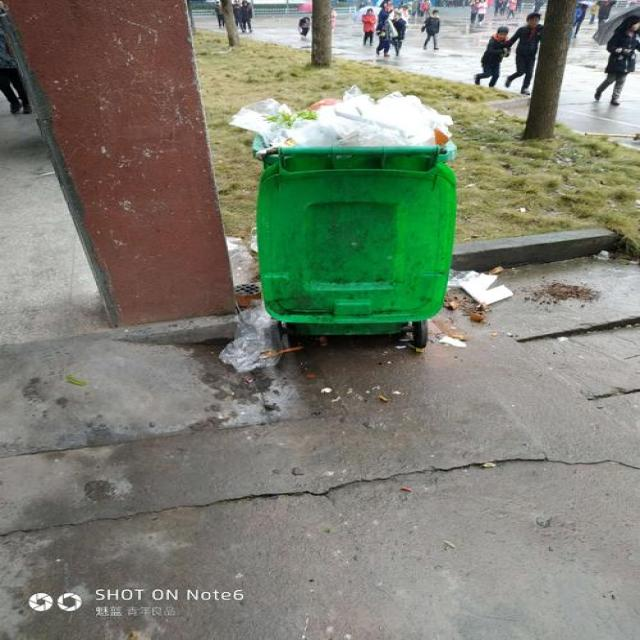garbage: (216, 225, 301, 372), (439, 264, 512, 350)
overflow: (225, 84, 456, 334)
